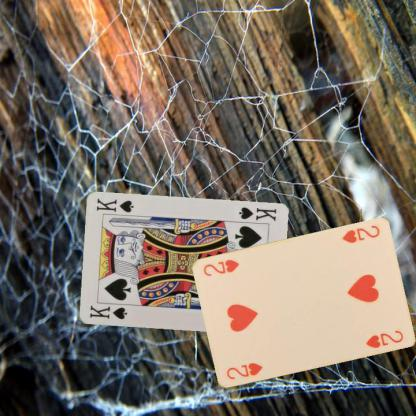2h: (339, 223, 381, 245), (223, 360, 264, 381)
Ks: (236, 204, 277, 223), (87, 303, 128, 321)
